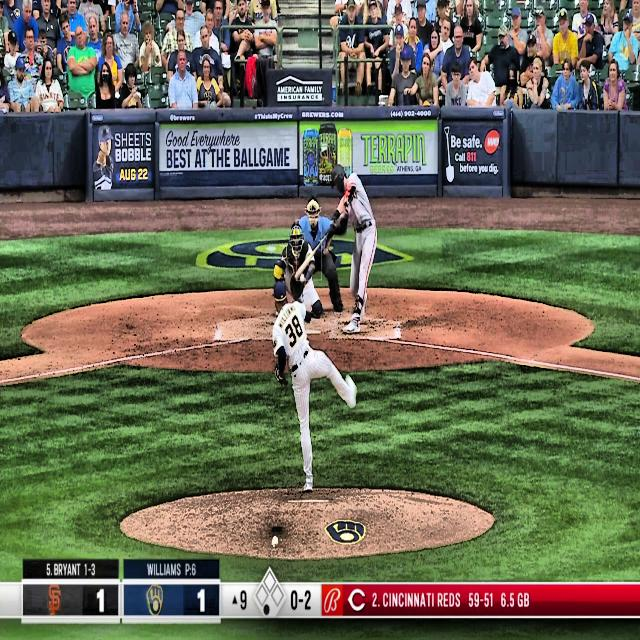baseball: (299, 274, 305, 282)
